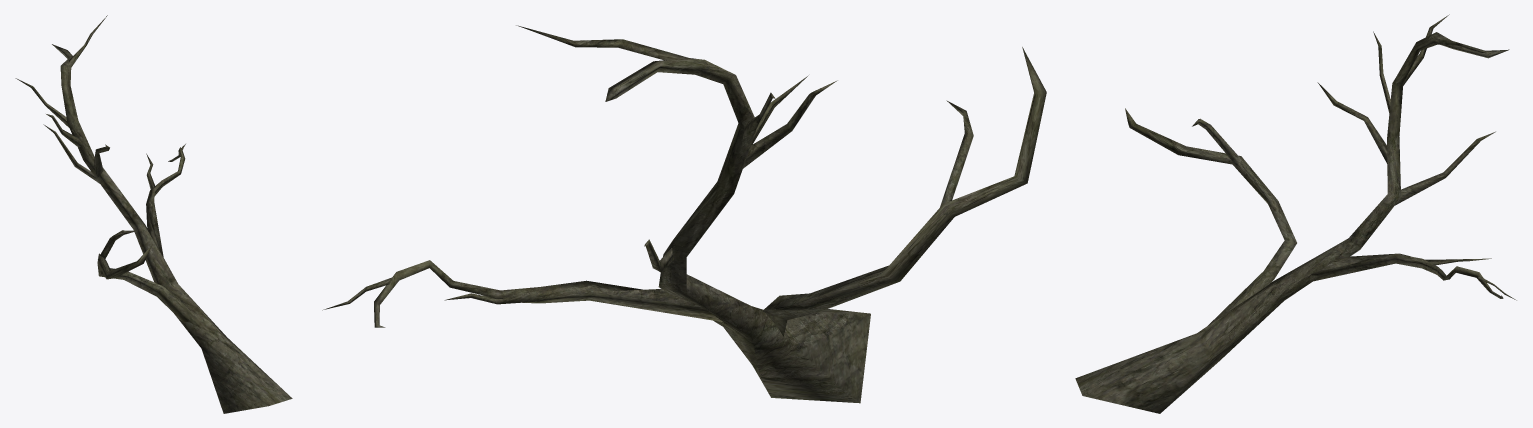
File: TI_Old_Tree_Branch_10.fbx
3 renders of one model, left to right at view 1: azimuth 30°, elevation 25°; view 2: azimuth 150°, elevation 25°; view 3: azimuth 270°, elevation 25°, orthographic. The views are drawn at different scales.
Parts seen in each view (by area): view 1: TI_Old_Tree_Branch_10; view 2: TI_Old_Tree_Branch_10; view 3: TI_Old_Tree_Branch_10.
Boxes of the visible parts, bbox=[...] form: TI_Old_Tree_Branch_10: bbox=[15, 15, 292, 413]; TI_Old_Tree_Branch_10: bbox=[322, 25, 1046, 403]; TI_Old_Tree_Branch_10: bbox=[1075, 14, 1516, 413].
Bounding box in the file's own units: 4.8 × 6.09 × 6.87.
